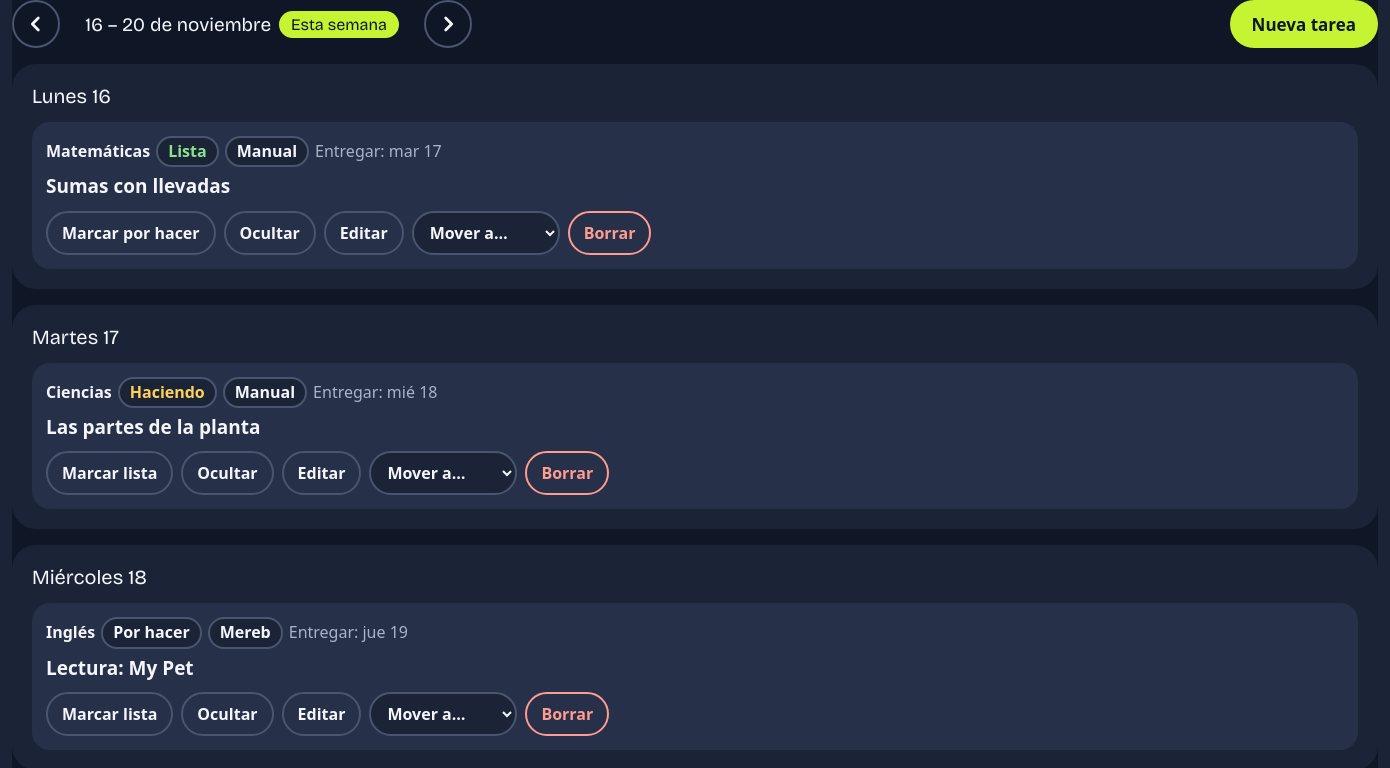
Test: TasksTab positive › edits a task with its values already filled in
Later steps or results of the test are not shown.
Click the button with aria-label "Editar: Lectura: My Pet" at (322, 714), box [282, 692, 361, 736]
(page scrolled)
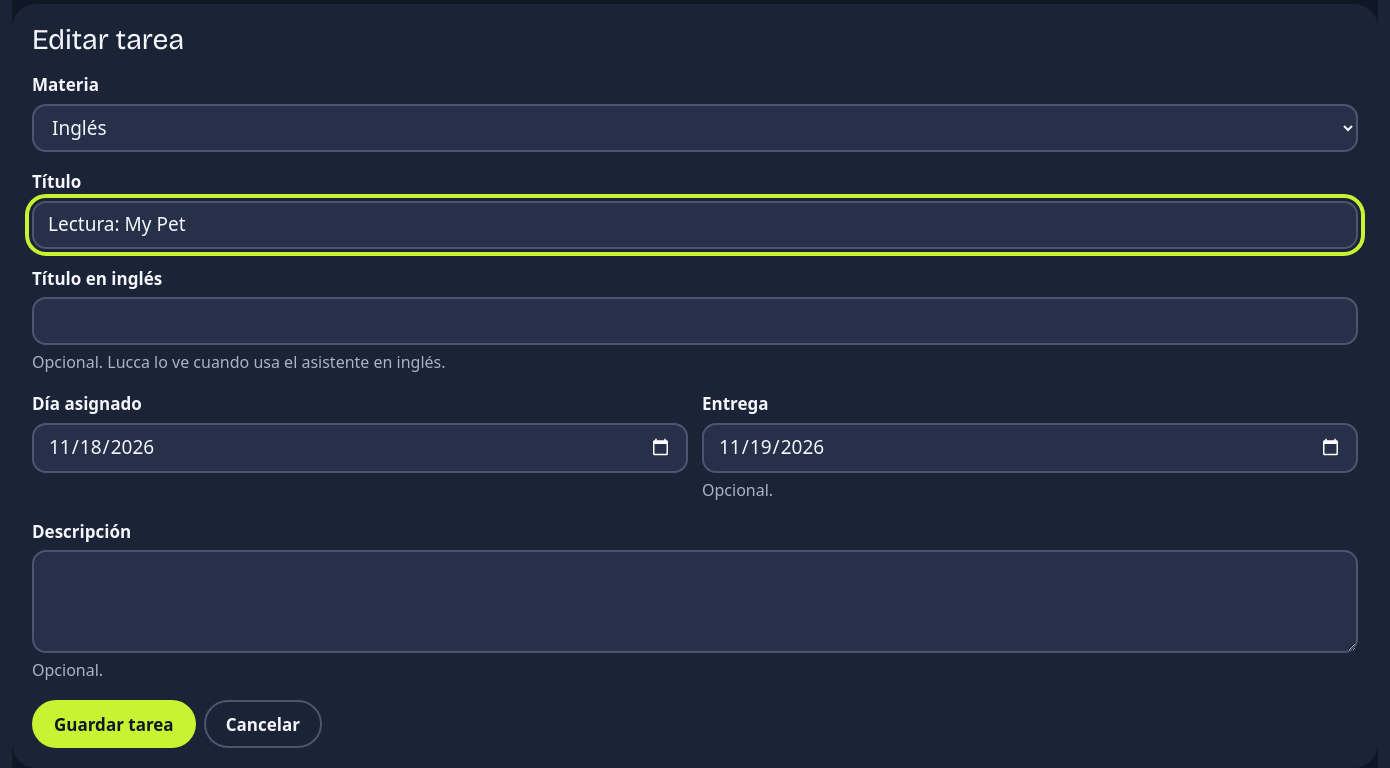
Check: the field labelled "Título" holds "Lectura: My Pet", box [32, 201, 1358, 249]
